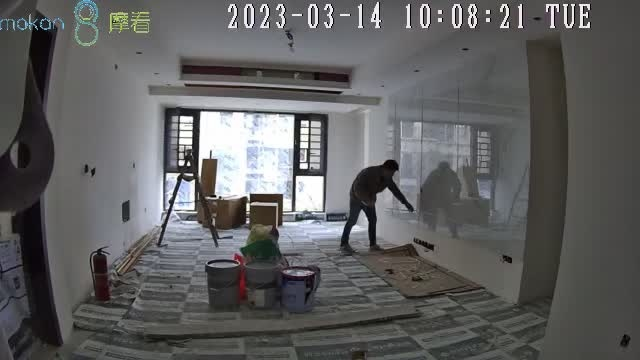people: (340, 159, 414, 252)
window: (163, 106, 325, 215)
